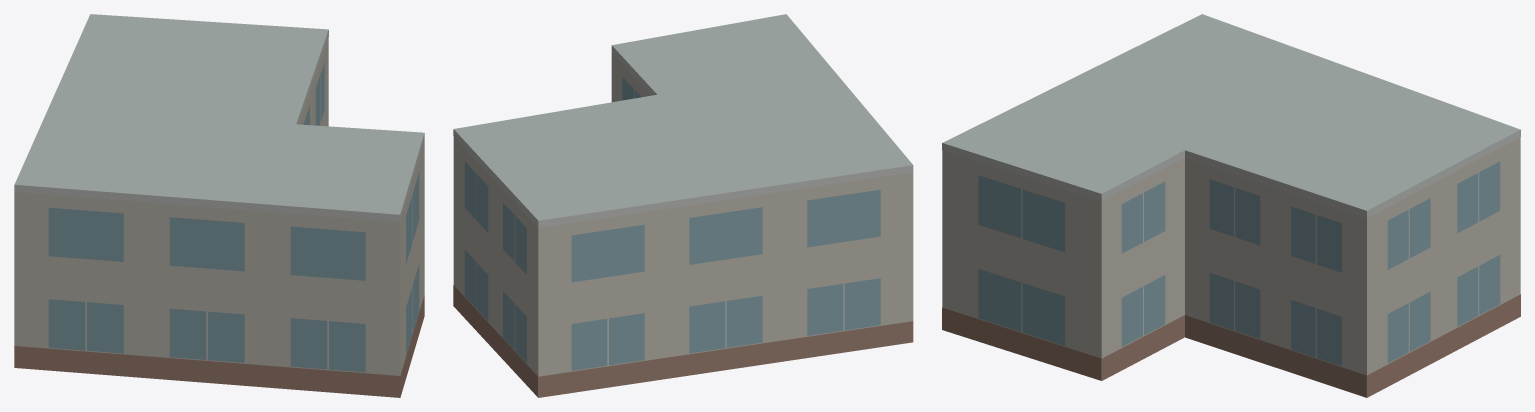
File: survey-upis-32659854.glb
3 renders of one model, left to right at view 1: azimuth 30°, elevation 25°; view 2: azimuth 150°, elevation 25°; view 3: azimuth 270°, elevation 25°, orthographic. The views are drawn at different scales.
Parts seen in each view (by area): view 1: survey-upis-32659854.tmp; view 2: survey-upis-32659854.tmp; view 3: survey-upis-32659854.tmp.
Boxes of the visible parts, x1=… form: survey-upis-32659854.tmp: x1=14, y1=14, x2=424, y2=397; survey-upis-32659854.tmp: x1=453, y1=14, x2=913, y2=397; survey-upis-32659854.tmp: x1=942, y1=14, x2=1520, y2=397.
Bounding box in the file's own units: 13.78 × 6.1 × 17.11.
